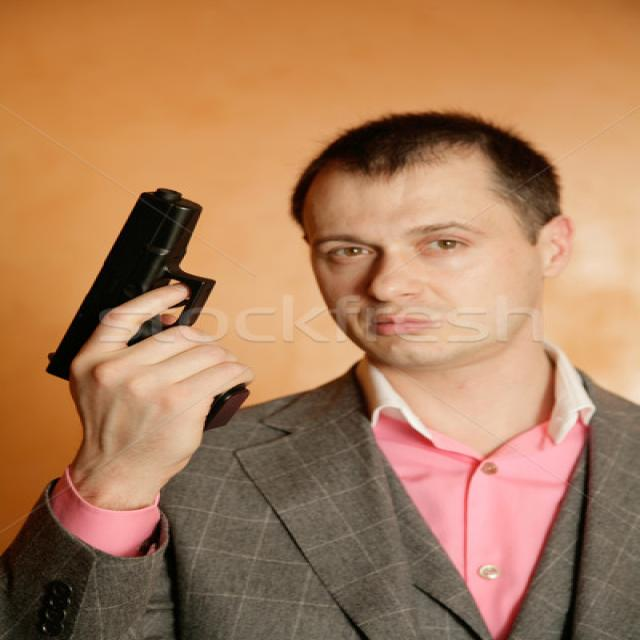gun: (32, 164, 246, 431)
